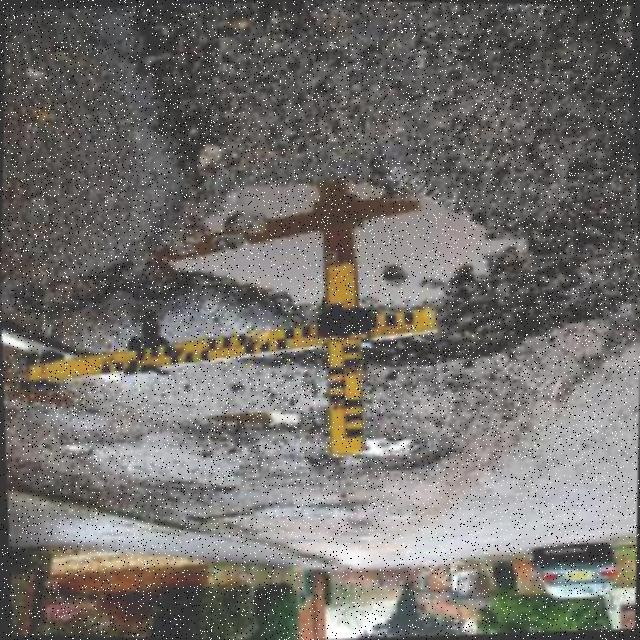Pothole: (16, 179, 590, 365), (336, 429, 453, 471), (192, 408, 311, 428), (232, 346, 326, 368)
